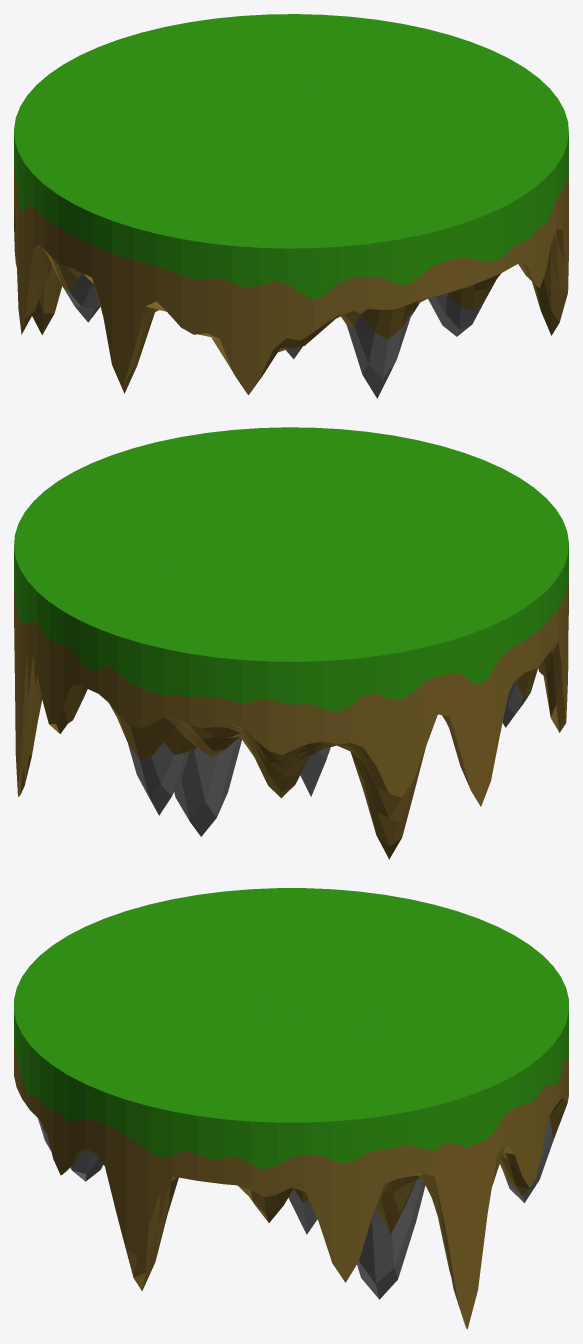
The model's file is Ufo Island 2.fbx.
The picture shows the model from 3 angles, top to bottom: view 1: azimuth 30°, elevation 25°; view 2: azimuth 150°, elevation 25°; view 3: azimuth 270°, elevation 25°; orthographic projection.
Visible parts, largest first — view 1: Island; view 2: Island; view 3: Island.
Boxes of the visible parts, x1=… form: Island: x1=14, y1=14, x2=568, y2=398; Island: x1=14, y1=427, x2=568, y2=859; Island: x1=14, y1=888, x2=568, y2=1329.
Bounding box in the file's own units: 8641 × 4670 × 8641.
